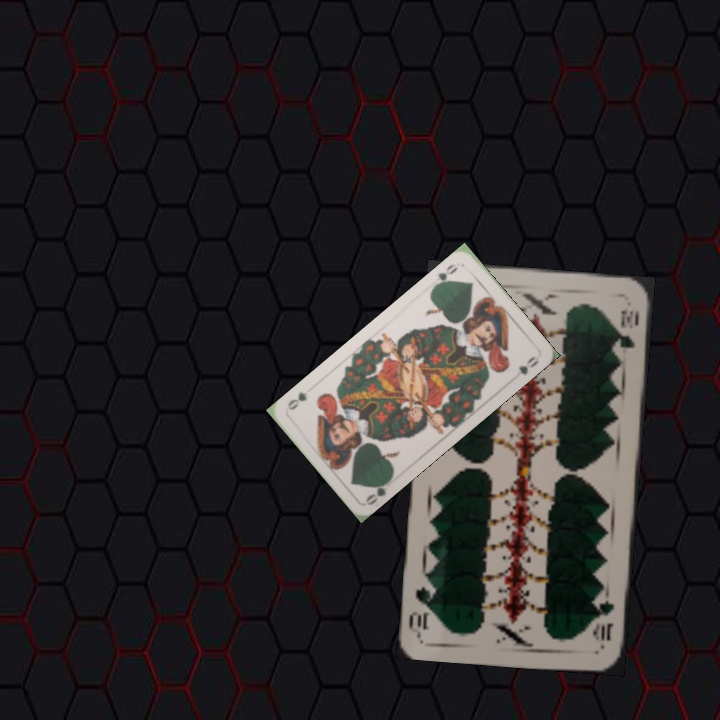G10: (591, 596, 617, 644)
GO: (362, 473, 395, 508), (430, 260, 461, 291)
